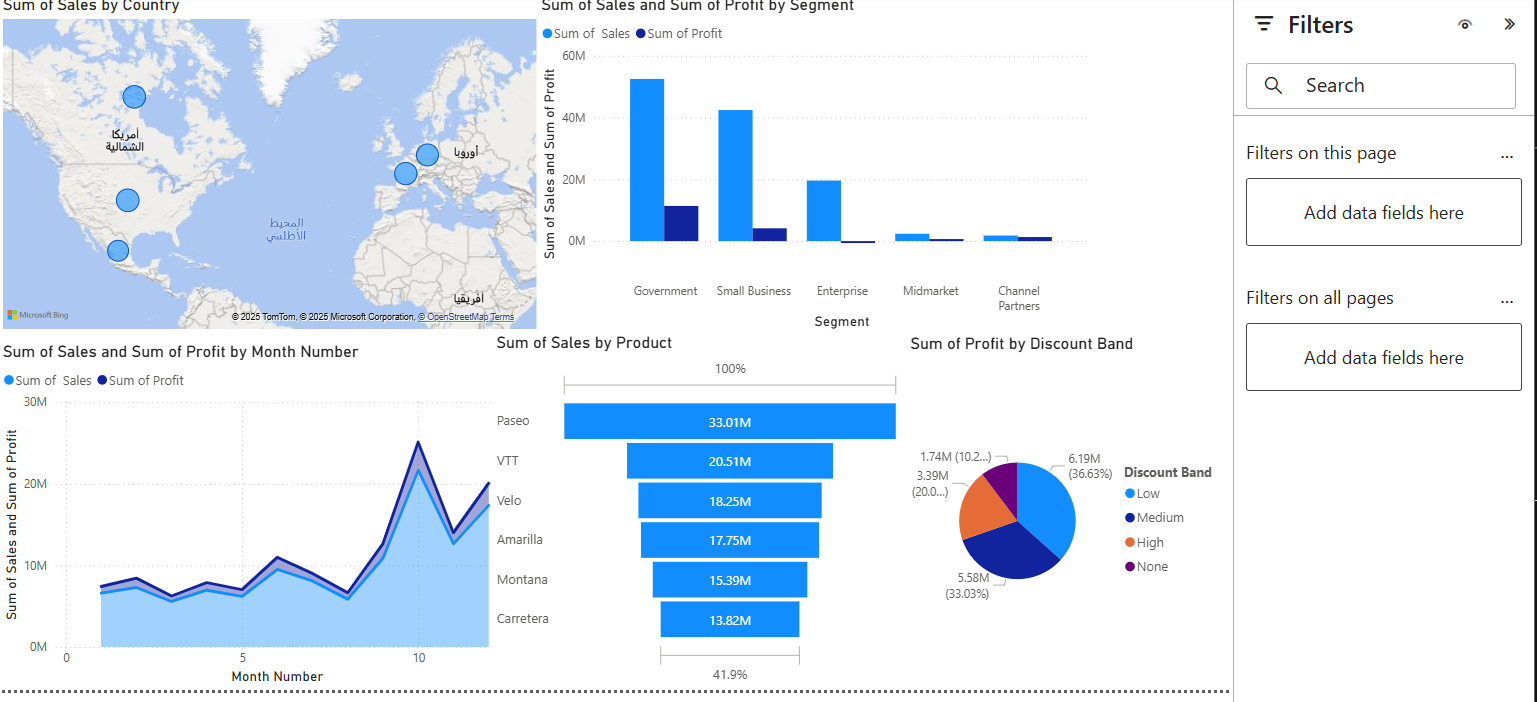

The page's visual inventory and layout, read from the dashboard file:
{"tool":"powerbi","page":{"name":"Page 1","canvas":[1280,720],"ordinal":0},"visuals":[{"type":"map","fields":{"Size":["Sum(FinancialSampleOnline. Sales)"],"Category":["FinancialSampleOnline.Country"]},"box":[0,0,569.8,351.2],"z":0},{"type":"clusteredColumnChart","fields":{"Y":["Sum(FinancialSampleOnline. Sales)","Sum(FinancialSampleOnline.Profit)"],"Category":["FinancialSampleOnline.Segment"]},"box":[558.2,0,578.1,351.2],"z":1},{"type":"stackedAreaChart","fields":{"Y":["Sum(FinancialSampleOnline. Sales)","Sum(FinancialSampleOnline.Profit)"],"Category":["FinancialSampleOnline.Month Number"]},"box":[0,359.5,523.4,359.5],"z":2},{"type":"funnel","fields":{"Y":["Sum(FinancialSampleOnline. Sales)"],"Category":["FinancialSampleOnline.Product"]},"box":[511.9,349.5,429,369.4],"z":3},{"type":"pieChart","fields":{"Y":["Sum(FinancialSampleOnline.Profit)"],"Category":["FinancialSampleOnline.Discount Band"]},"box":[940.9,351.2,339.6,367.7],"z":4}]}

Visuals, with their boxes on the page's 1280x720 design canvas (x1, y1, x2, y2). These are canvas units, not pixel positions in the 1537x702 screenshot, which may show the page scaled, cropped or inside an application window:
map - Sum(FinancialSampleOnline. Sales) x FinancialSampleOnline.Country: x1=0, y1=0, x2=570, y2=351
clusteredColumnChart - Sum(FinancialSampleOnline. Sales) x Sum(FinancialSampleOnline.Profit): x1=558, y1=0, x2=1136, y2=351
stackedAreaChart - Sum(FinancialSampleOnline. Sales) x Sum(FinancialSampleOnline.Profit): x1=0, y1=360, x2=523, y2=719
funnel - Sum(FinancialSampleOnline. Sales) x FinancialSampleOnline.Product: x1=512, y1=350, x2=941, y2=719
pieChart - Sum(FinancialSampleOnline.Profit) x FinancialSampleOnline.Discount Band: x1=941, y1=351, x2=1280, y2=719
